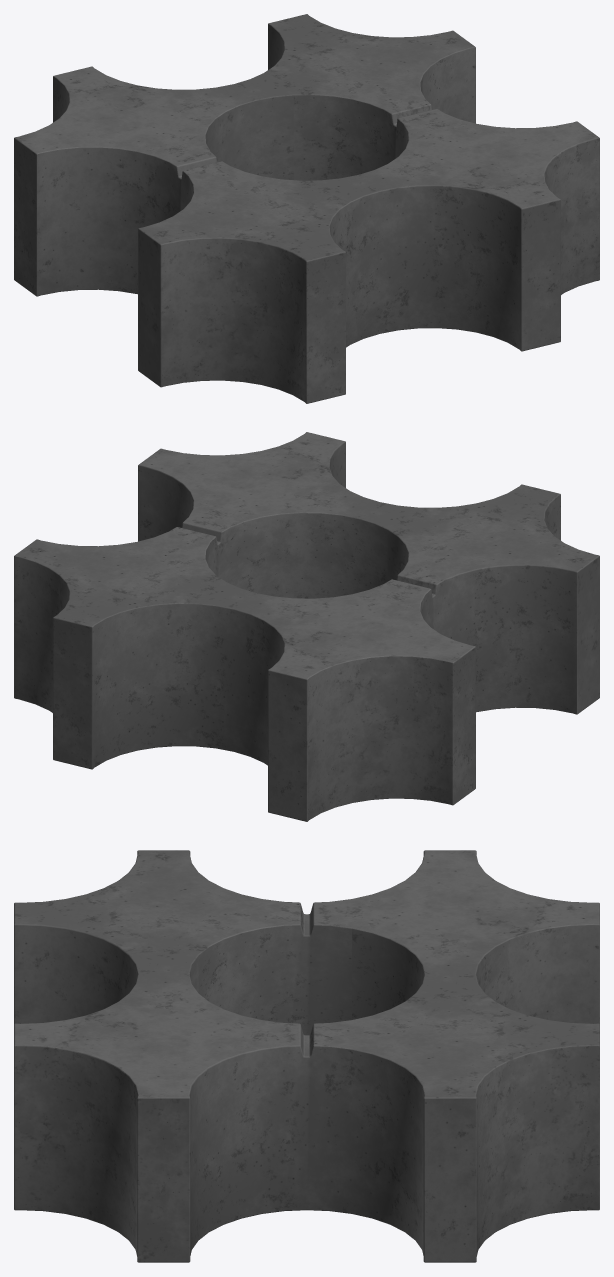
Rendered from unit.glb.
The picture shows the model from 3 angles, top to bottom: view 1: azimuth 30°, elevation 25°; view 2: azimuth 150°, elevation 25°; view 3: azimuth 270°, elevation 25°; orthographic projection. The views are drawn at different scales.
Parts seen in each view (by area): view 1: Grasscrete; view 2: Grasscrete; view 3: Grasscrete.
Part boxes in pixels (left/top/right/bottom): Grasscrete: left=14, top=14, right=599, bottom=403; Grasscrete: left=14, top=432, right=599, bottom=821; Grasscrete: left=14, top=850, right=599, bottom=1262.
Size of the model in its own units: 0.2858 by 0.0889 by 0.2858.
Materials: 1 (1 with a texture image).
